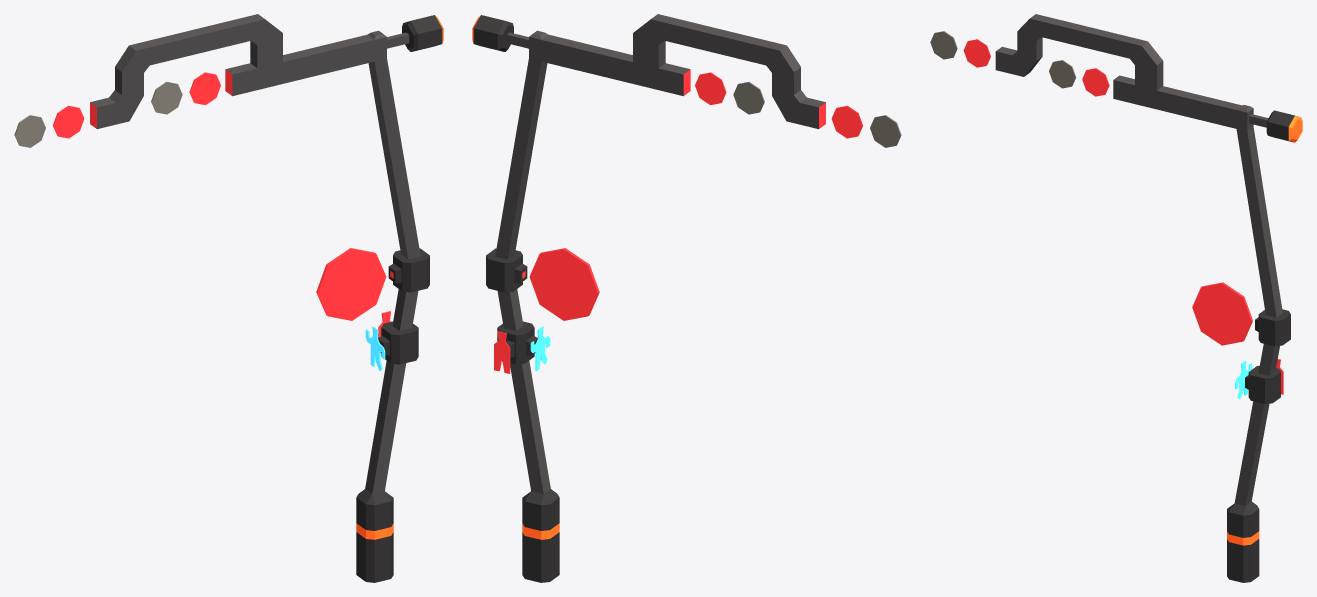
File: scifi_scifi-traffic-lights-long-corner-b.fbx
The picture shows the model from 3 angles, left to right: view 1: azimuth 30°, elevation 25°; view 2: azimuth 150°, elevation 25°; view 3: azimuth 330°, elevation 25°; orthographic projection. The views are drawn at different scales.
Parts seen in each view (by area): view 1: scifi_scifi_traffic_lights_long_corner_b; view 2: scifi_scifi_traffic_lights_long_corner_b; view 3: scifi_scifi_traffic_lights_long_corner_b.
Boxes of the visible parts, x1=… form: scifi_scifi_traffic_lights_long_corner_b: x1=14, y1=14, x2=443, y2=582; scifi_scifi_traffic_lights_long_corner_b: x1=472, y1=14, x2=901, y2=582; scifi_scifi_traffic_lights_long_corner_b: x1=930, y1=14, x2=1302, y2=582.
Size of the model in its own units: 151 by 200 by 14.5.
